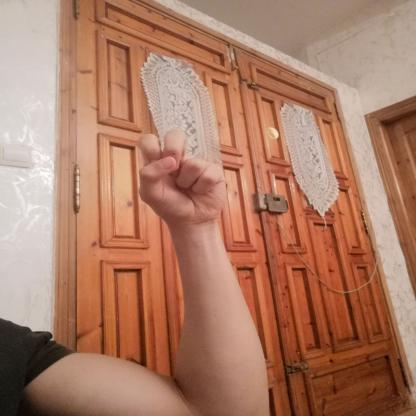QAAF: (121, 123, 233, 229)
